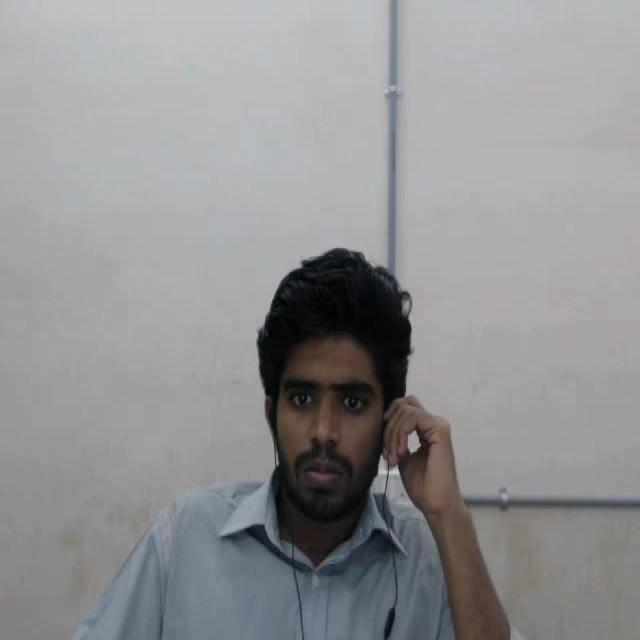Engaged: (239, 224, 433, 544)
